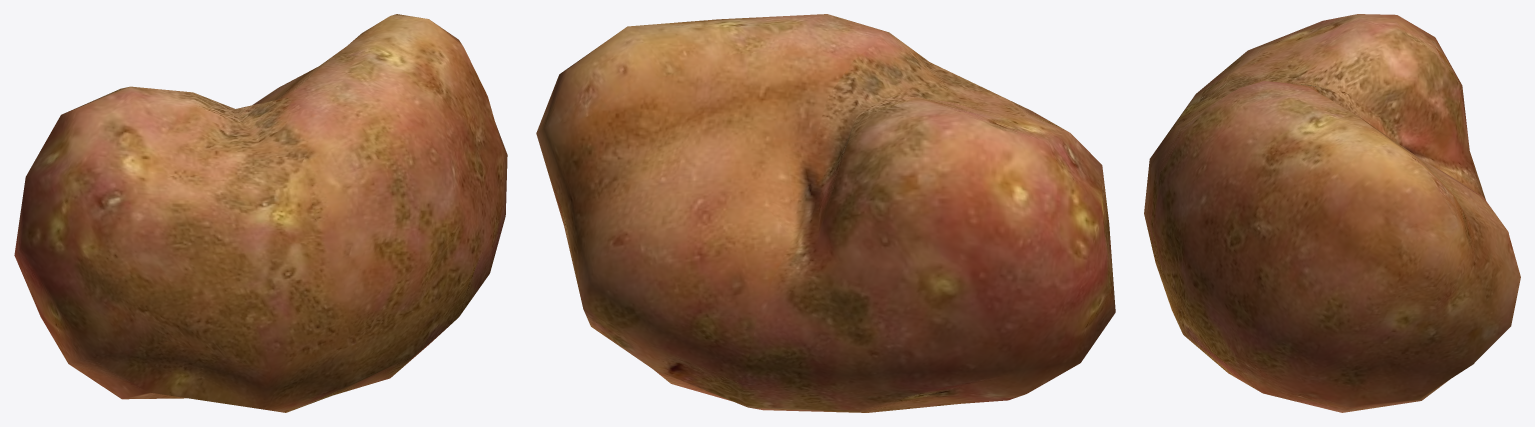
Rendered from A37_Potato_low.fbx.
The picture shows the model from 3 angles, left to right: view 1: azimuth 30°, elevation 25°; view 2: azimuth 150°, elevation 25°; view 3: azimuth 270°, elevation 25°; orthographic projection. The views are drawn at different scales.
Visible parts, largest first — view 1: A37_Potato_low; view 2: A37_Potato_low; view 3: A37_Potato_low.
Boxes of the visible parts, x1,y1,x2,y2 form: A37_Potato_low: [14, 14, 507, 412]; A37_Potato_low: [536, 14, 1115, 412]; A37_Potato_low: [1144, 14, 1520, 412].
Bounding box in the file's own units: 8.07 × 5.87 × 5.09.
Materials: 1 (1 with a texture image).
